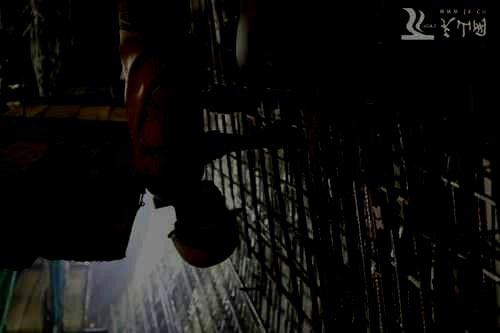helmet: (167, 179, 244, 269)
